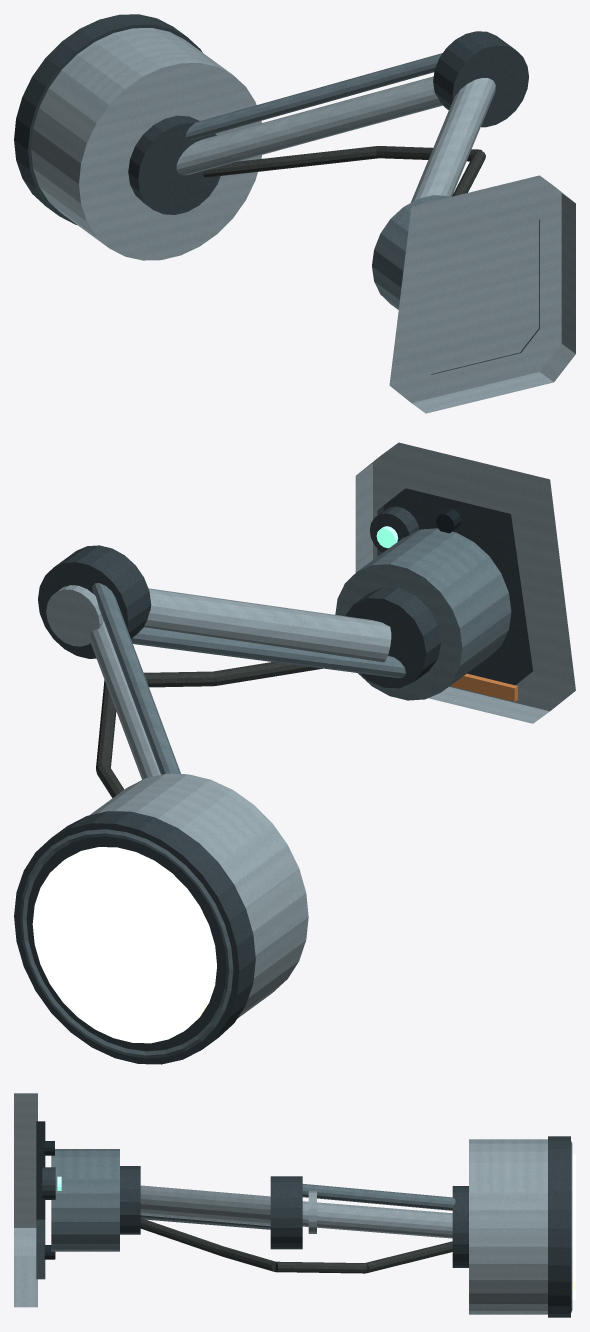
The model's file is task_light.glb.
3 renders of one model, top to bottom at view 1: azimuth 30°, elevation 25°; view 2: azimuth 150°, elevation 25°; view 3: azimuth 270°, elevation 25°, orthographic. The views are drawn at different scales.
Visible parts, largest first — view 1: static__alloy, Lamp_Head__alloy, Arm_B__alloy, Joint_B__graphite, Joint_A__graphite, Lamp_Head__graphite, Arm_A__alloy, Arm_B__trim, Cable__rubber, static__trim; view 2: Lamp_Diffuser__glow, static__alloy, Lamp_Head__alloy, Lamp_Head__graphite, static__trim, static__graphite, Arm_A__alloy, Joint_A__graphite, Lamp_Head__trim, Arm_A__trim, Cable__rubber, Arm_B__trim (+4 smaller); view 3: Lamp_Head__alloy, static__trim, static__alloy, Lamp_Head__graphite, Arm_A__alloy, Arm_B__alloy, Cable__rubber, static__graphite, Joint_A__graphite, Arm_B__trim, Joint_B__graphite, Lamp_Diffuser__glow (+5 smaller).
Boxes of the visible parts, <box> form: static__alloy: <box>389,175,575,413</box>; Lamp_Head__alloy: <box>31,28,261,260</box>; Arm_B__alloy: <box>176,76,442,175</box>; Joint_B__graphite: <box>128,115,220,214</box>; Joint_A__graphite: <box>433,31,528,127</box>; Lamp_Head__graphite: <box>14,14,202,224</box>; Arm_A__alloy: <box>410,78,495,202</box>; Arm_B__trim: <box>185,53,442,140</box>; Cable__rubber: <box>202,146,485,196</box>; static__trim: <box>372,195,449,309</box>; Lamp_Diffuser__glow: <box>32,847,216,1043</box>; static__alloy: <box>355,442,575,723</box>; Lamp_Head__alloy: <box>90,773,308,1018</box>; Lamp_Head__graphite: <box>14,811,255,1064</box>; static__trim: <box>335,528,511,700</box>; static__graphite: <box>345,488,532,688</box>; Arm_A__alloy: <box>144,588,391,662</box>; Joint_A__graphite: <box>38,545,151,658</box>; Lamp_Head__trim: <box>20,829,233,1058</box>; Arm_A__trim: <box>131,627,405,678</box>; Cable__rubber: <box>96,662,322,797</box>; Arm_B__trim: <box>92,583,180,774</box>; Lamp_Head__alloy: <box>469,1139,547,1314</box>; static__trim: <box>51,1149,119,1251</box>; static__alloy: <box>14,1093,37,1307</box>; Lamp_Head__graphite: <box>548,1136,570,1317</box>; Arm_A__alloy: <box>140,1185,270,1226</box>; Arm_B__alloy: <box>302,1201,452,1238</box>; Cable__rubber: <box>140,1218,452,1273</box>; static__graphite: <box>36,1121,140,1279</box>; Joint_A__graphite: <box>270,1176,302,1249</box>; Arm_B__trim: <box>302,1184,455,1210</box>; Joint_B__graphite: <box>452,1186,468,1267</box>; Lamp_Diffuser__glow: <box>572,1154,575,1299</box>.
Bounding box in the file's own units: 0.426 × 0.3098 × 0.754.
8 materials, 8 textured.
